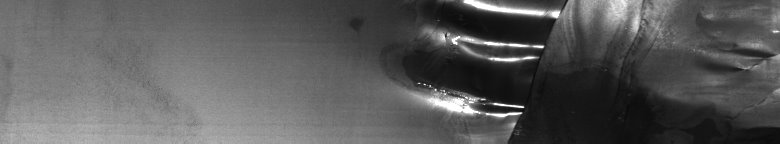ke: (403, 4, 776, 136)
